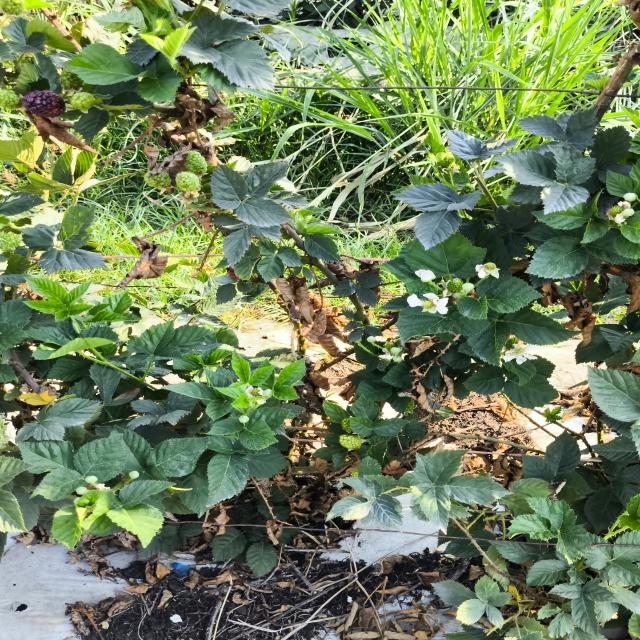marron: (22, 90, 65, 117)
verde: (185, 151, 207, 175), (175, 171, 200, 192), (70, 92, 96, 111), (61, 69, 83, 88), (145, 172, 171, 188), (0, 89, 20, 109), (339, 435, 363, 450), (447, 278, 463, 293), (341, 417, 351, 431)
